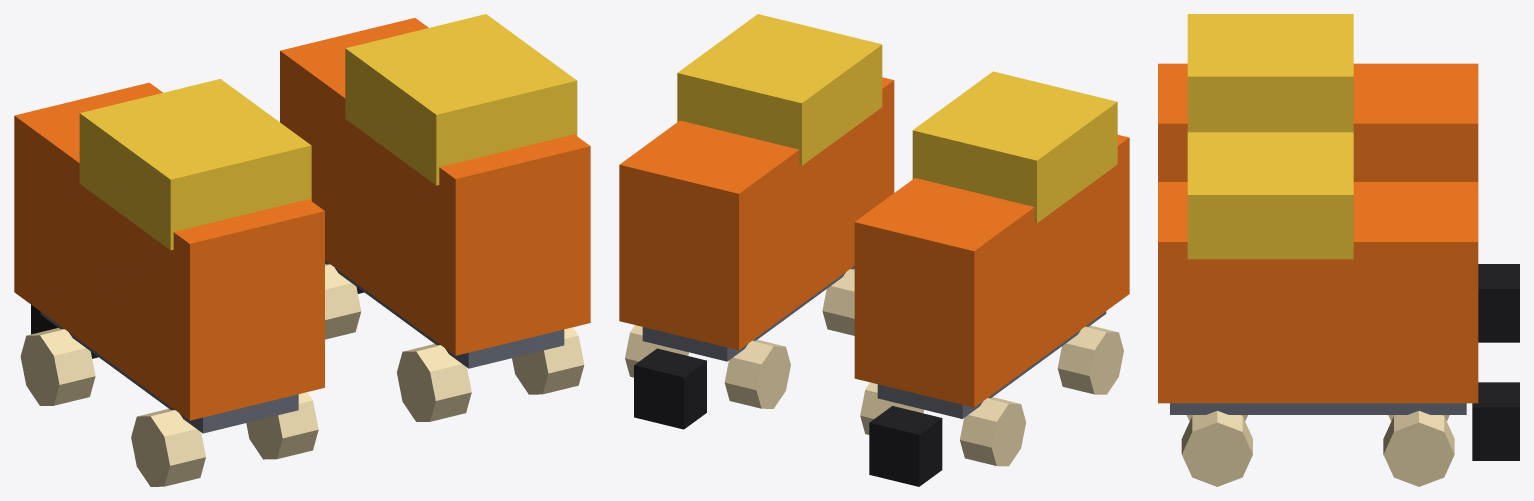
The model's file is SkatesOrange.obj.
3 renders of one model, left to right at view 1: azimuth 30°, elevation 25°; view 2: azimuth 150°, elevation 25°; view 3: azimuth 270°, elevation 25°, orthographic. The views are drawn at different scales.
Visible parts, largest first — view 1: SkatesOrange; view 2: SkatesOrange; view 3: SkatesOrange.
Part boxes in pixels (x1=…): SkatesOrange: x1=14, y1=14, x2=590, y2=486; SkatesOrange: x1=619, y1=14, x2=1129, y2=486; SkatesOrange: x1=1158, y1=14, x2=1519, y2=486.
Size of the model in its own units: 0.368 by 0.27 by 0.305.
5 materials, 5 textured.
